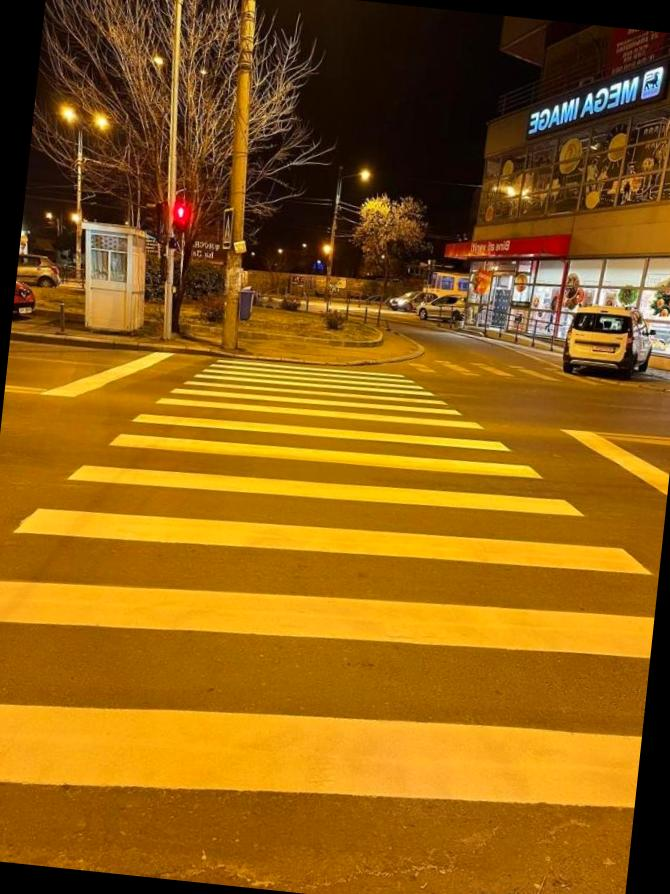faded_road_lines: (395, 348, 663, 404), (2, 366, 66, 416), (585, 433, 670, 452)
